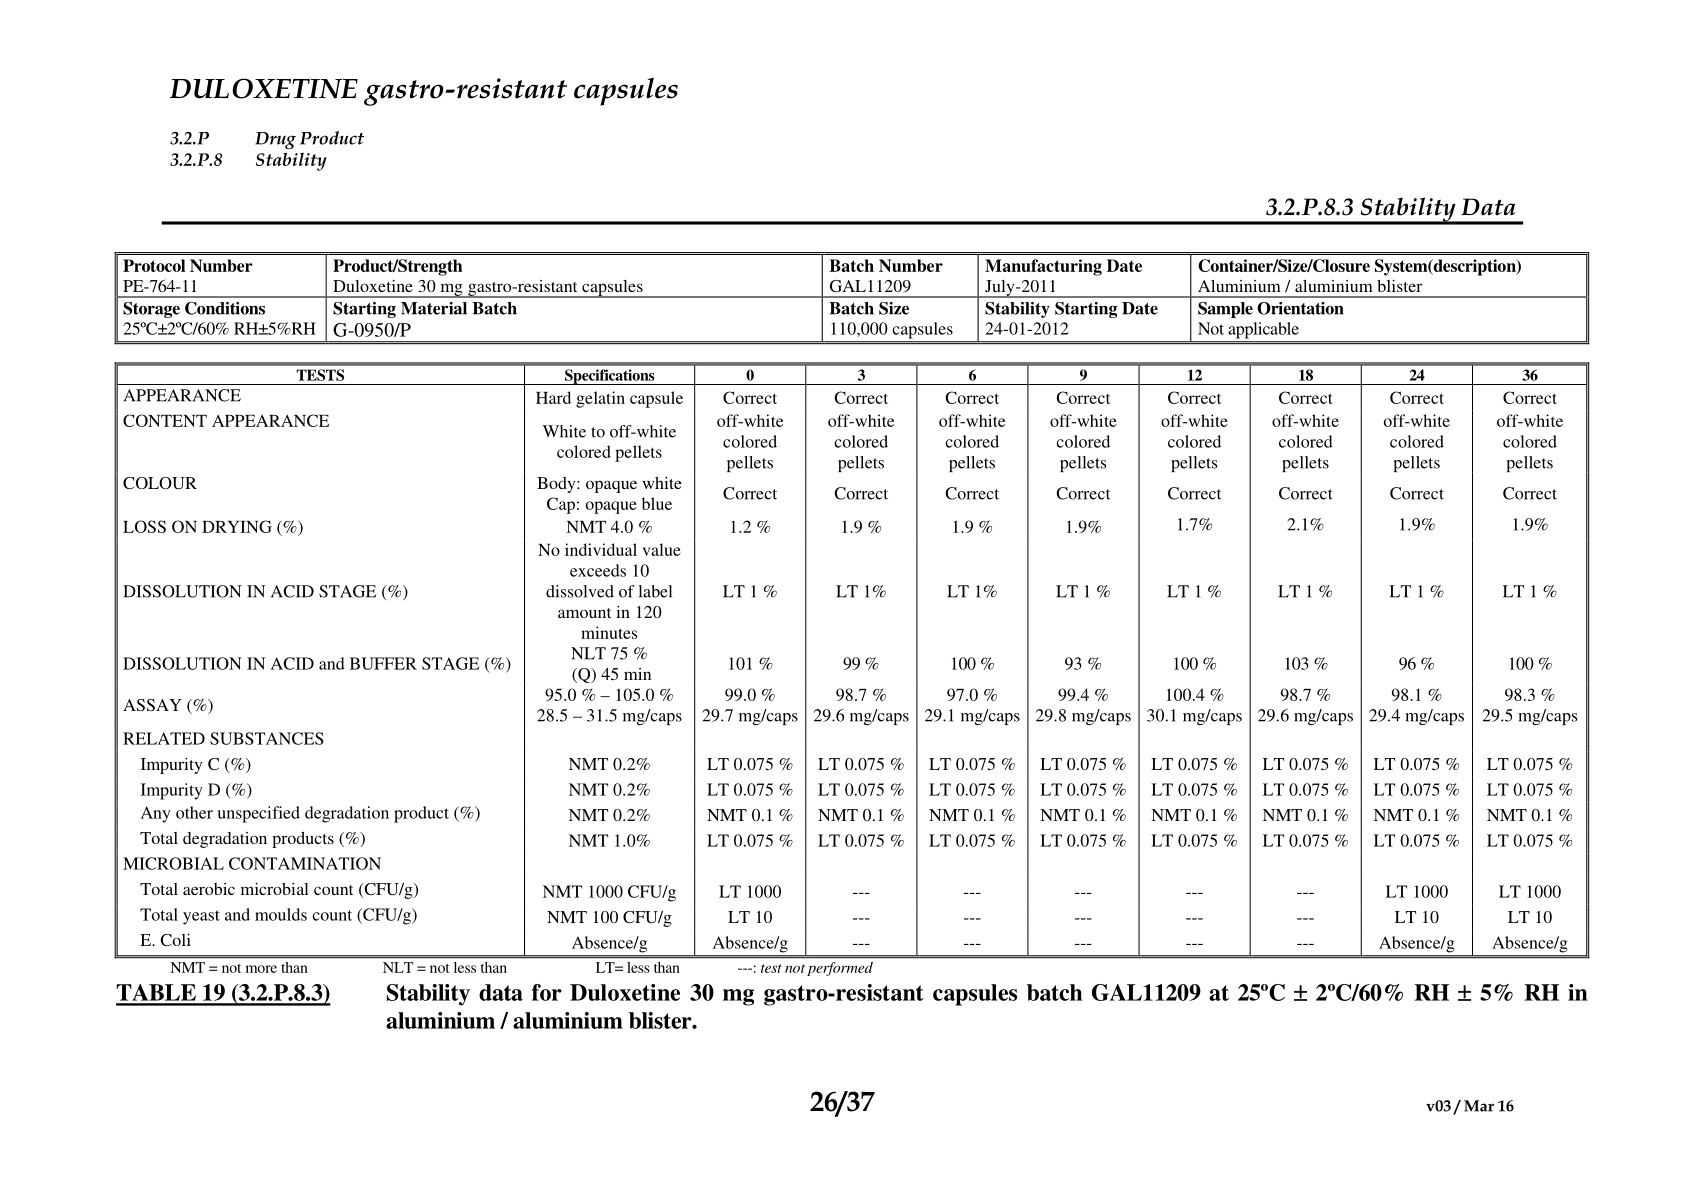full_lined: (113, 362, 1590, 959), (113, 253, 1590, 345)
